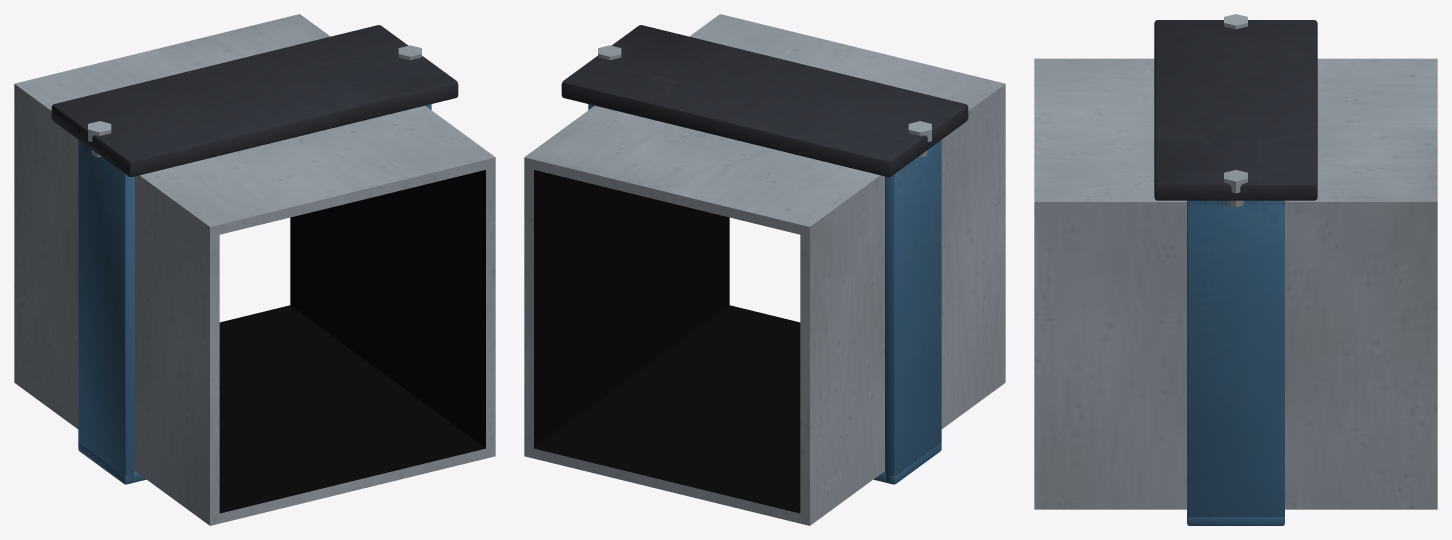
Rendered from duct_holder.glb.
3 renders of one model, left to right at view 1: azimuth 30°, elevation 25°; view 2: azimuth 150°, elevation 25°; view 3: azimuth 270°, elevation 25°, orthographic. The views are drawn at different scales.
Visible parts, largest first — view 1: Body.005; view 2: Body.005; view 3: Body.005.
Boxes of the visible parts, x1=… form: Body.005: x1=14, y1=14, x2=495, y2=525; Body.005: x1=524, y1=14, x2=1005, y2=525; Body.005: x1=1034, y1=14, x2=1437, y2=525.
Bounding box in the file's own units: 0.243 × 0.238 × 0.247.
5 materials, 4 textured.
